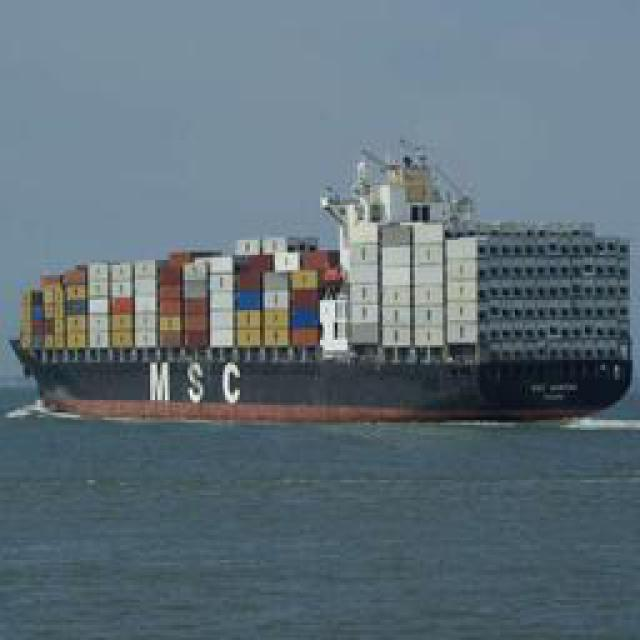Ship: (14, 149, 634, 419)
